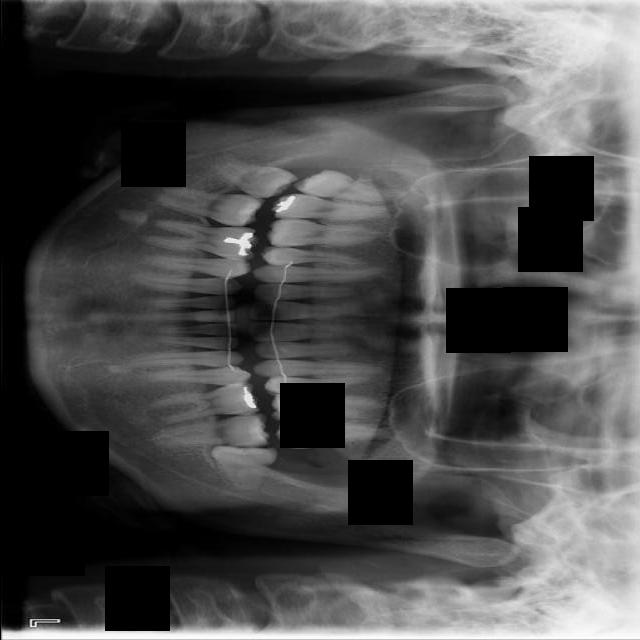3M ESPE Implant: (290, 164, 396, 208)
52: (212, 373, 266, 426), (206, 222, 260, 264), (271, 193, 324, 220)
73: (36, 616, 49, 622)
BioHorizons Implant: (274, 421, 407, 449)
Biomet 3i Implant: (209, 444, 278, 493)
Blue Sky Bio Implant: (149, 411, 270, 457)
Caries: (268, 192, 398, 225)
Implant: (152, 185, 266, 229)
Keystone Dental Implant: (203, 144, 299, 209)
